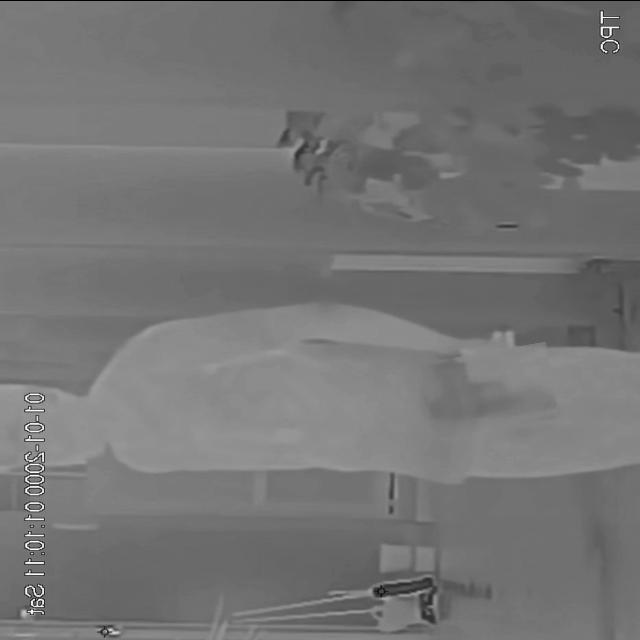Weapon: (423, 346, 557, 434)
